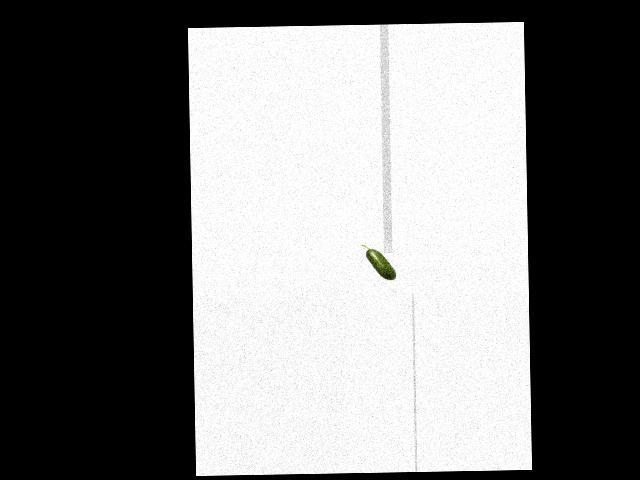cucumber: (361, 243, 396, 279)
